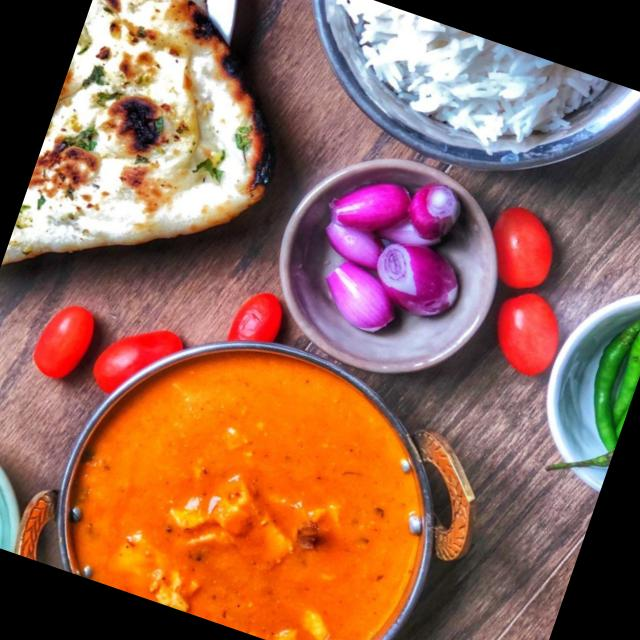ShahiPaneer: (45, 301, 462, 640)
